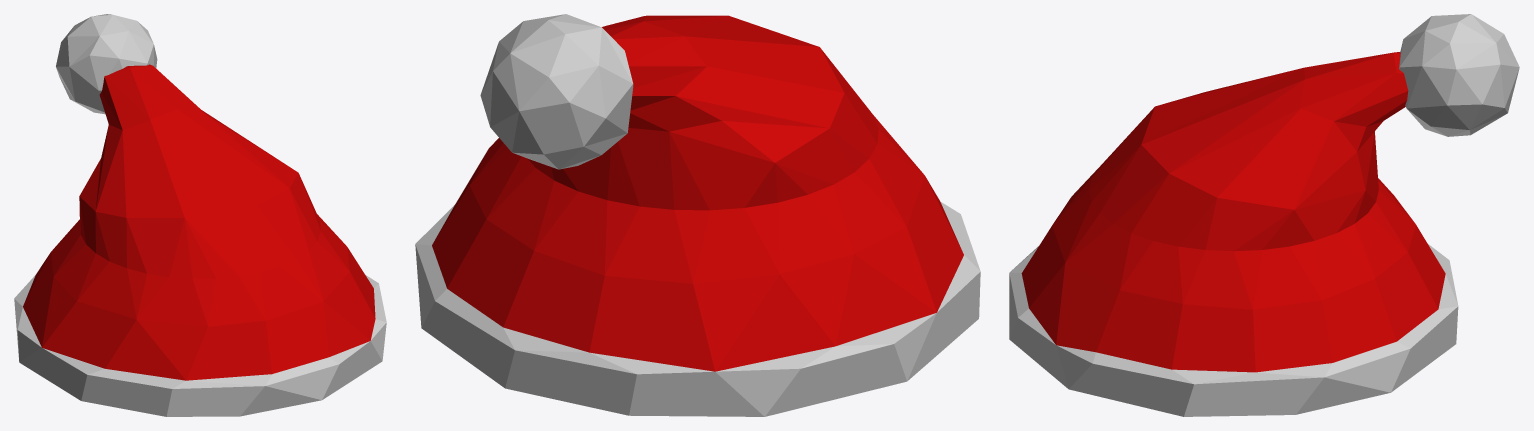
The model's file is xmashat.obj.
The picture shows the model from 3 angles, left to right: view 1: azimuth 30°, elevation 25°; view 2: azimuth 150°, elevation 25°; view 3: azimuth 270°, elevation 25°; orthographic projection. The views are drawn at different scales.
Visible parts, largest first — view 1: Cylinder, Sphere; view 2: Cylinder, Sphere; view 3: Cylinder, Sphere.
Part boxes in pixels (box(x1,y1,x2,y2)): Cylinder: box(14, 64, 386, 416); Sphere: box(56, 14, 157, 114); Cylinder: box(415, 15, 980, 416); Sphere: box(480, 14, 633, 169); Cylinder: box(1009, 52, 1458, 416); Sphere: box(1399, 14, 1519, 136).
Size of the model in its own units: 2.46 by 1.85 by 2.81.
